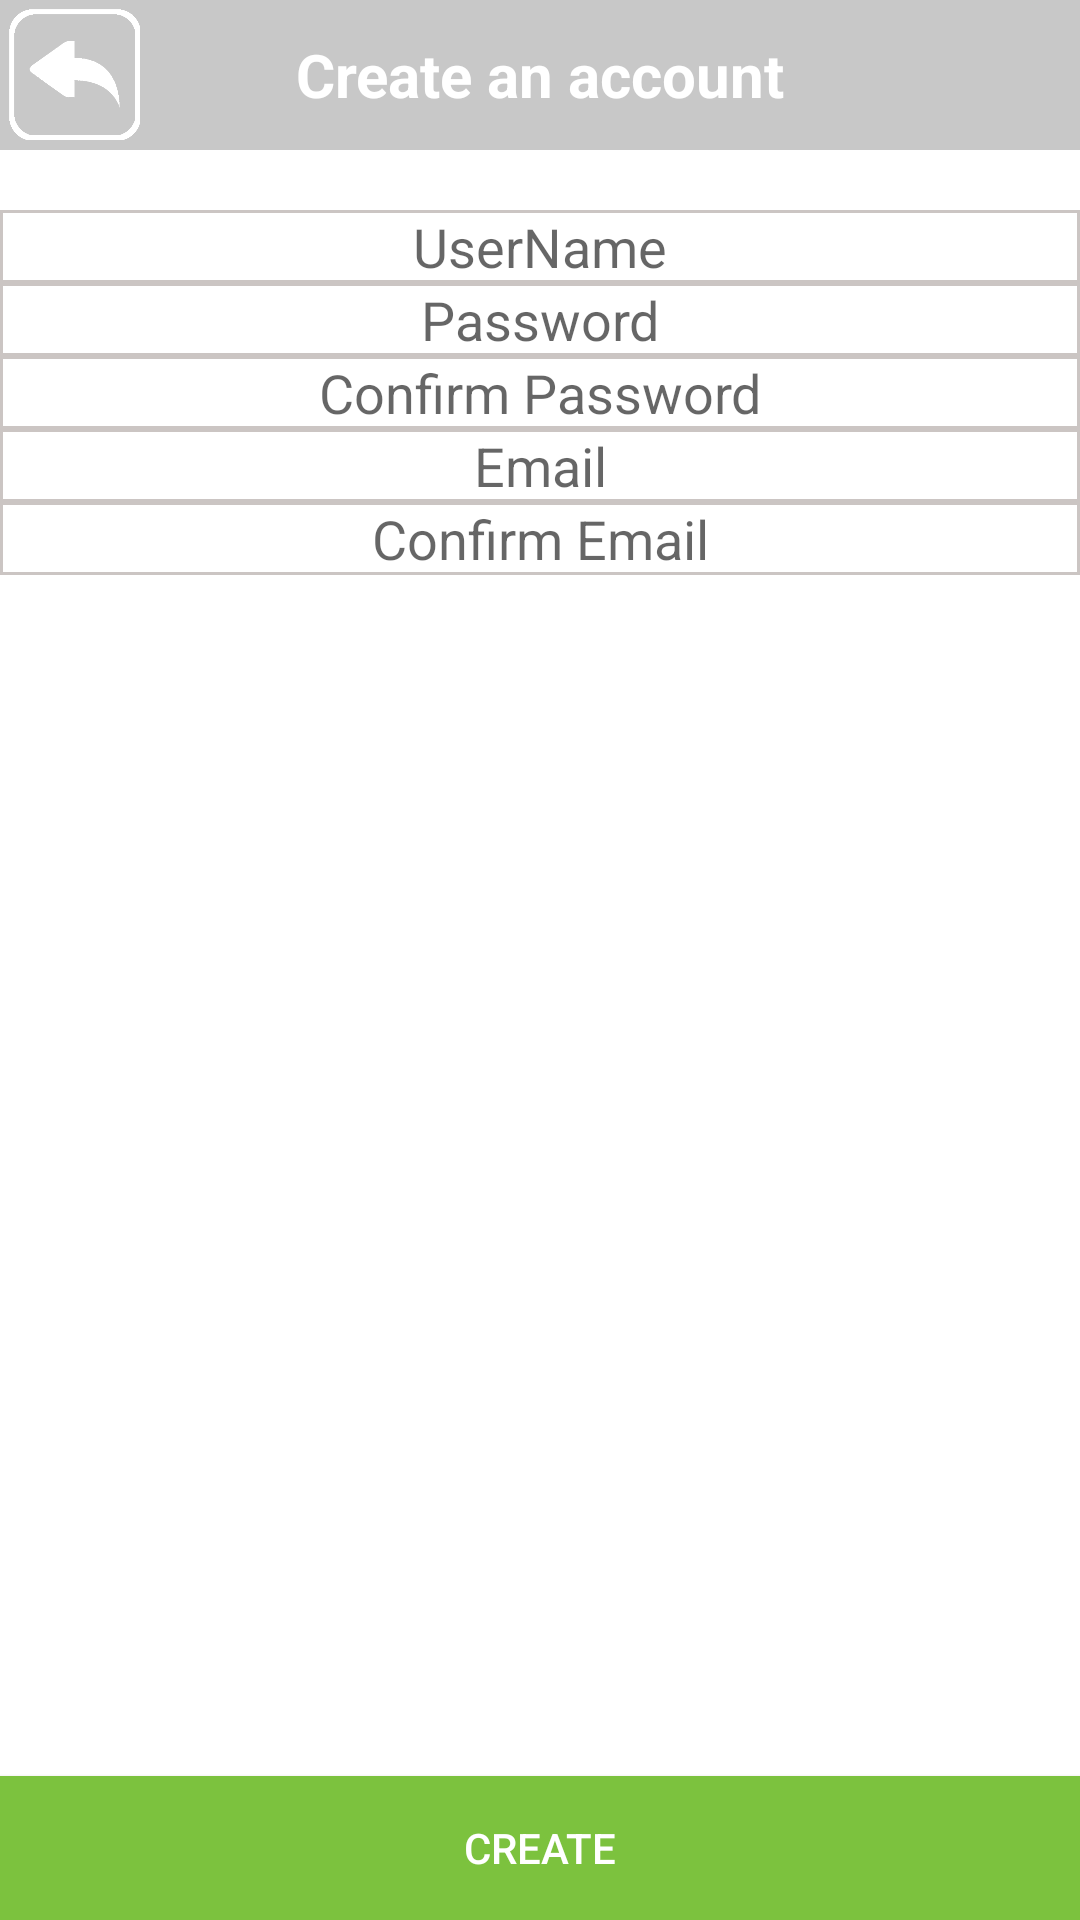

Where icons sit on this 1080w x 1920h app screen, as (x1, y1, x2, y2):
backbutton: (9, 9, 140, 140)
